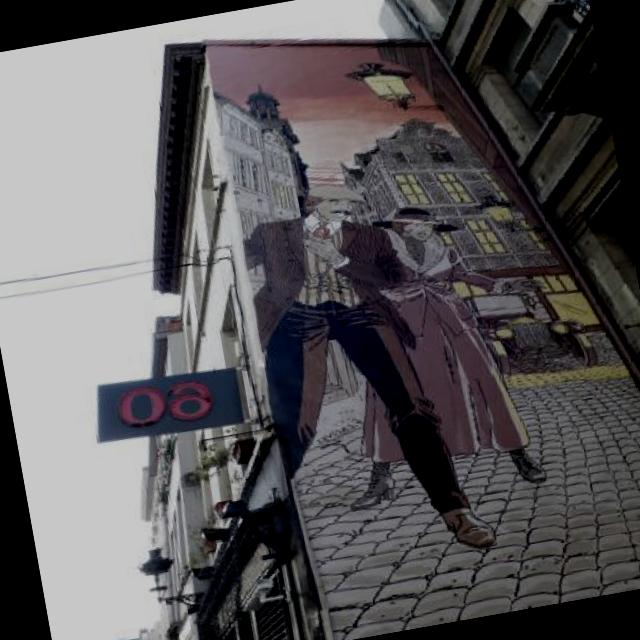Person: (300, 189, 549, 522)
